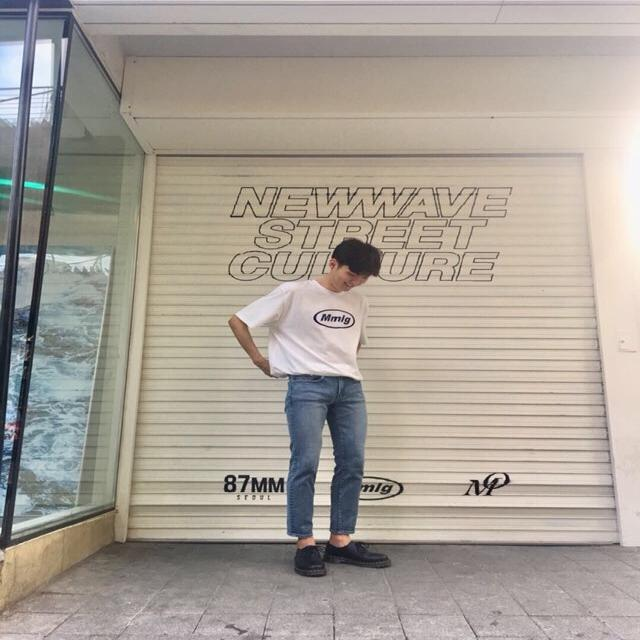denimpants: (285, 374, 363, 538)
shortsleeve: (238, 274, 366, 381)
